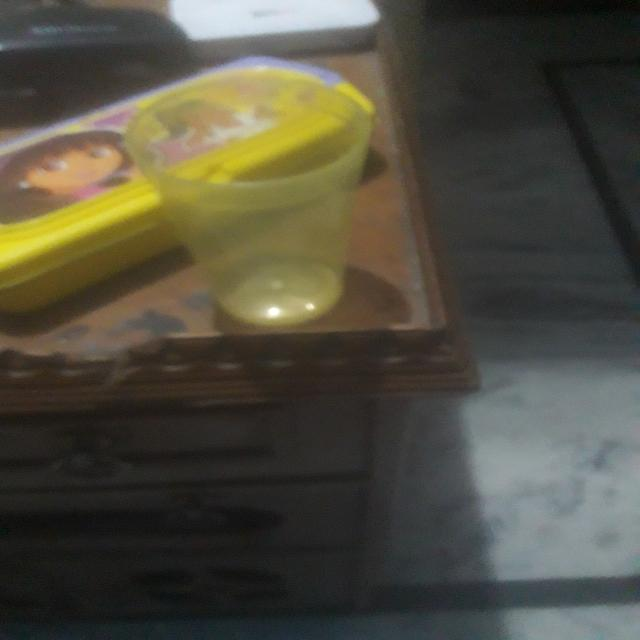Glass: (124, 62, 376, 330)
